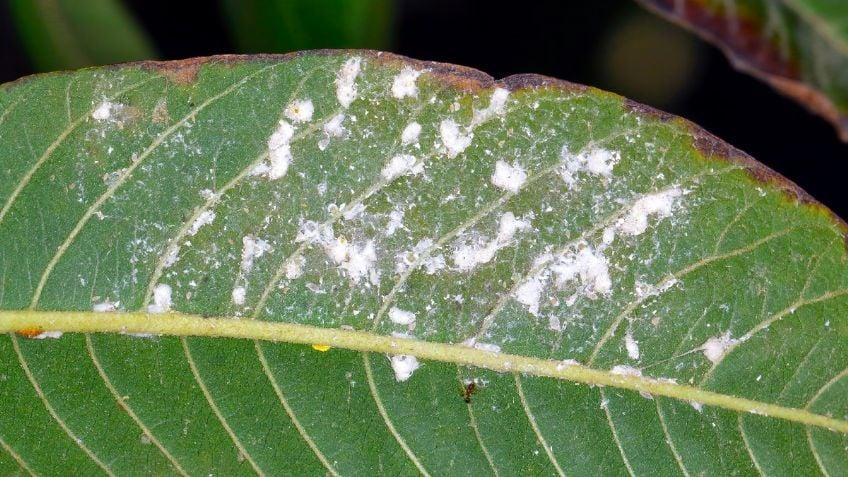pseudococcidae: (61, 60, 826, 423)
